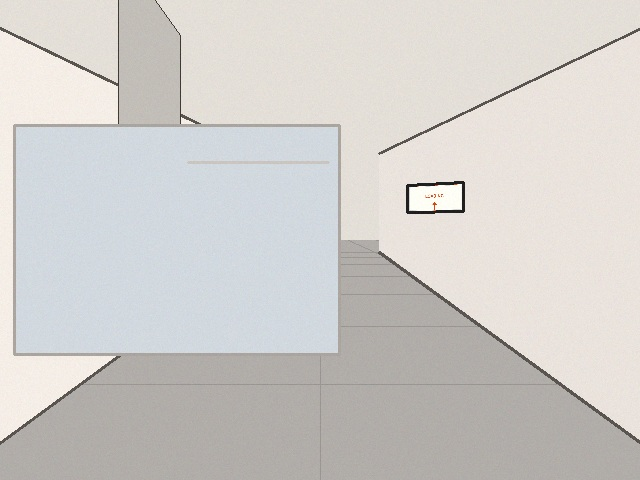directional_sign: (407, 182, 463, 212)
hospital_bed: (14, 125, 339, 354), (149, 198, 285, 281)
obstacle: (156, 196, 206, 283)
